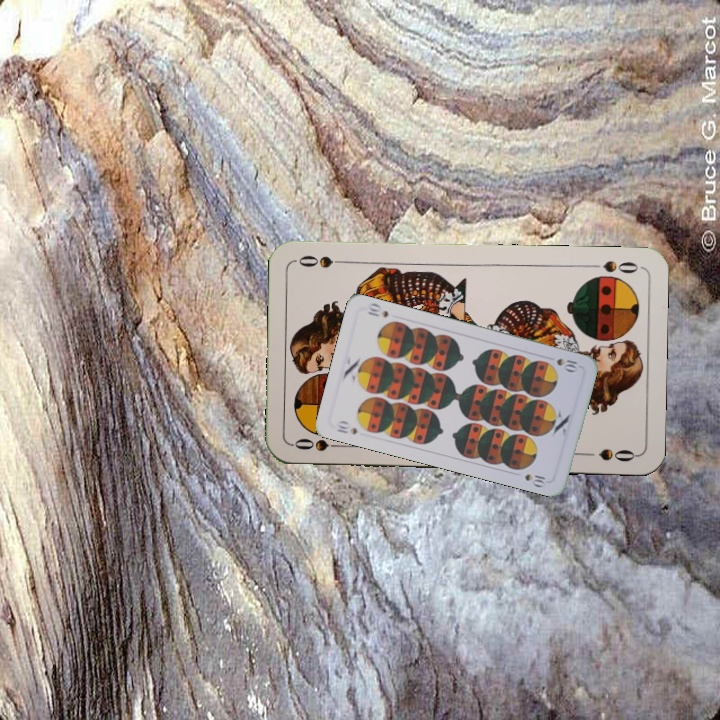S10: (553, 354, 581, 374), (332, 417, 360, 437)
SO: (290, 434, 349, 454), (583, 256, 640, 276)
